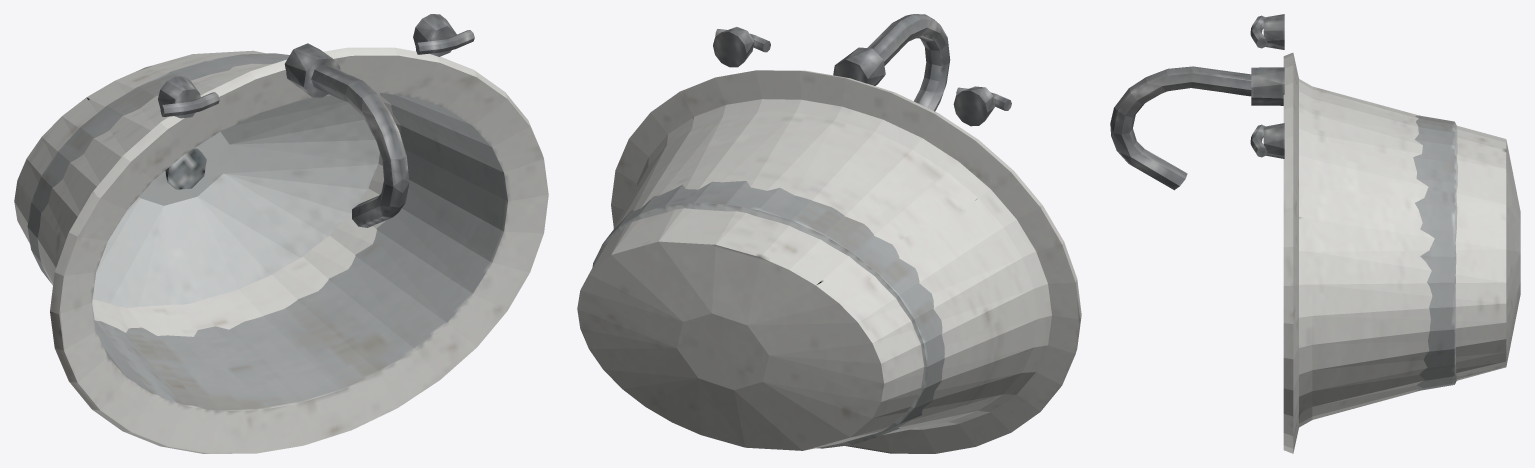
The model's file is pz_sink_inset_white.obj.
The picture shows the model from 3 angles, left to right: view 1: azimuth 30°, elevation 25°; view 2: azimuth 150°, elevation 25°; view 3: azimuth 270°, elevation 25°; orthographic projection. The views are drawn at different scales.
Visible parts, largest first — view 1: pz_sink_inset_white_|_open_bowl_and_overhanging_rim, pz_sink_inset_white_|_EDITABLE_arched_faucet, pz_sink_inset_white_|_faucet_socket, pz_sink_inset_white_|_drain_disc, pz_sink_inset_white_|_tap_stem, pz_sink_inset_white_|_tap_stem.001, pz_sink_inset_white_|_EDITABLE_curved_tap_handle, pz_sink_inset_white_|_EDITABLE_curved_tap_handle.001; view 2: pz_sink_inset_white_|_open_bowl_and_overhanging_rim, pz_sink_inset_white_|_EDITABLE_arched_faucet, pz_sink_inset_white_|_faucet_socket, pz_sink_inset_white_|_tap_stem.001, pz_sink_inset_white_|_tap_stem; view 3: pz_sink_inset_white_|_open_bowl_and_overhanging_rim, pz_sink_inset_white_|_EDITABLE_arched_faucet, pz_sink_inset_white_|_faucet_socket, pz_sink_inset_white_|_tap_stem, pz_sink_inset_white_|_tap_stem.001.
Boxes of the visible parts, x1,y1,x2,y2 form: pz_sink_inset_white_|_open_bowl_and_overhanging_rim: (14, 47, 548, 453); pz_sink_inset_white_|_EDITABLE_arched_faucet: (311, 65, 409, 227); pz_sink_inset_white_|_faucet_socket: (284, 43, 340, 97); pz_sink_inset_white_|_drain_disc: (165, 148, 206, 189); pz_sink_inset_white_|_tap_stem: (158, 76, 200, 118); pz_sink_inset_white_|_tap_stem.001: (413, 14, 456, 56); pz_sink_inset_white_|_EDITABLE_curved_tap_handle: (160, 92, 219, 116); pz_sink_inset_white_|_EDITABLE_curved_tap_handle.001: (415, 30, 474, 54); pz_sink_inset_white_|_open_bowl_and_overhanging_rim: (577, 70, 1081, 453); pz_sink_inset_white_|_EDITABLE_arched_faucet: (867, 14, 950, 111); pz_sink_inset_white_|_faucet_socket: (833, 47, 885, 85); pz_sink_inset_white_|_tap_stem.001: (713, 27, 754, 67); pz_sink_inset_white_|_tap_stem: (953, 86, 994, 126); pz_sink_inset_white_|_open_bowl_and_overhanging_rim: (1283, 52, 1520, 453); pz_sink_inset_white_|_EDITABLE_arched_faucet: (1110, 66, 1251, 190); pz_sink_inset_white_|_faucet_socket: (1251, 67, 1284, 105); pz_sink_inset_white_|_tap_stem: (1263, 14, 1284, 49); pz_sink_inset_white_|_tap_stem.001: (1263, 123, 1284, 158).
Size of the model in its own units: 0.526 by 0.4123 by 0.4296.
Materials: 1 (1 with a texture image).
